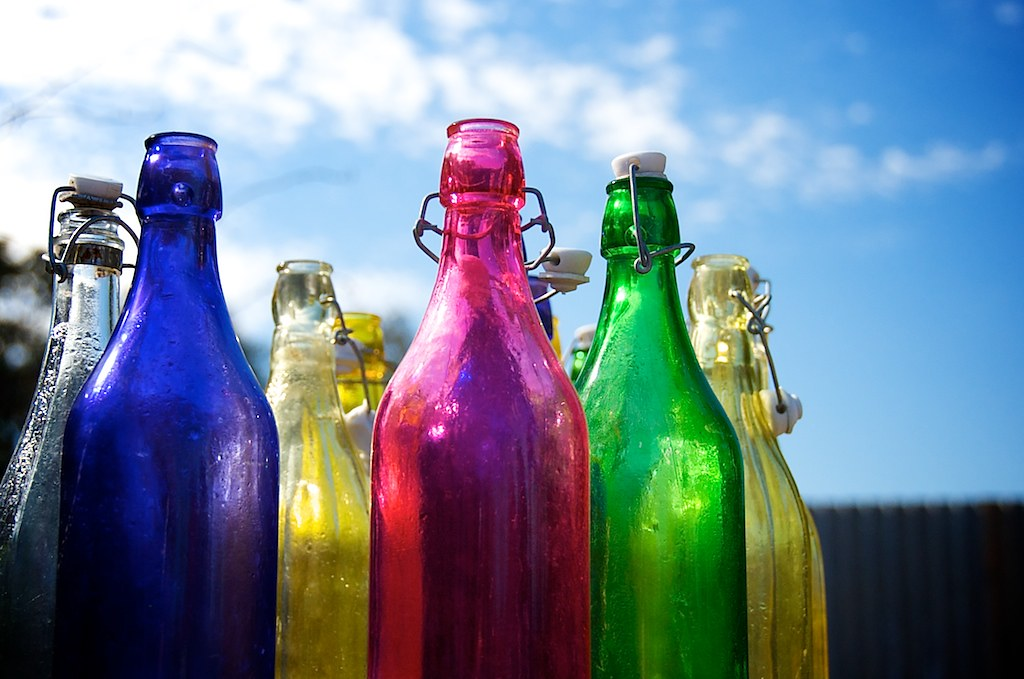bottle: (60, 129, 282, 679), (379, 117, 589, 679), (586, 157, 746, 679)
